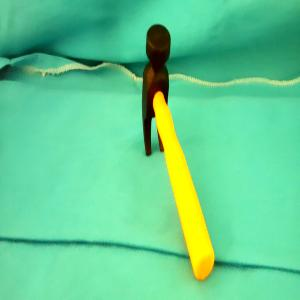martelo: (142, 23, 215, 283)
